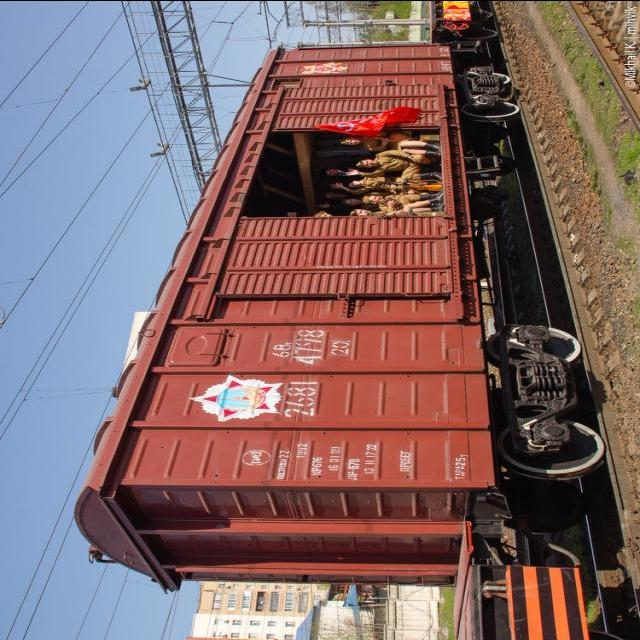wagon: (280, 326, 334, 418)
